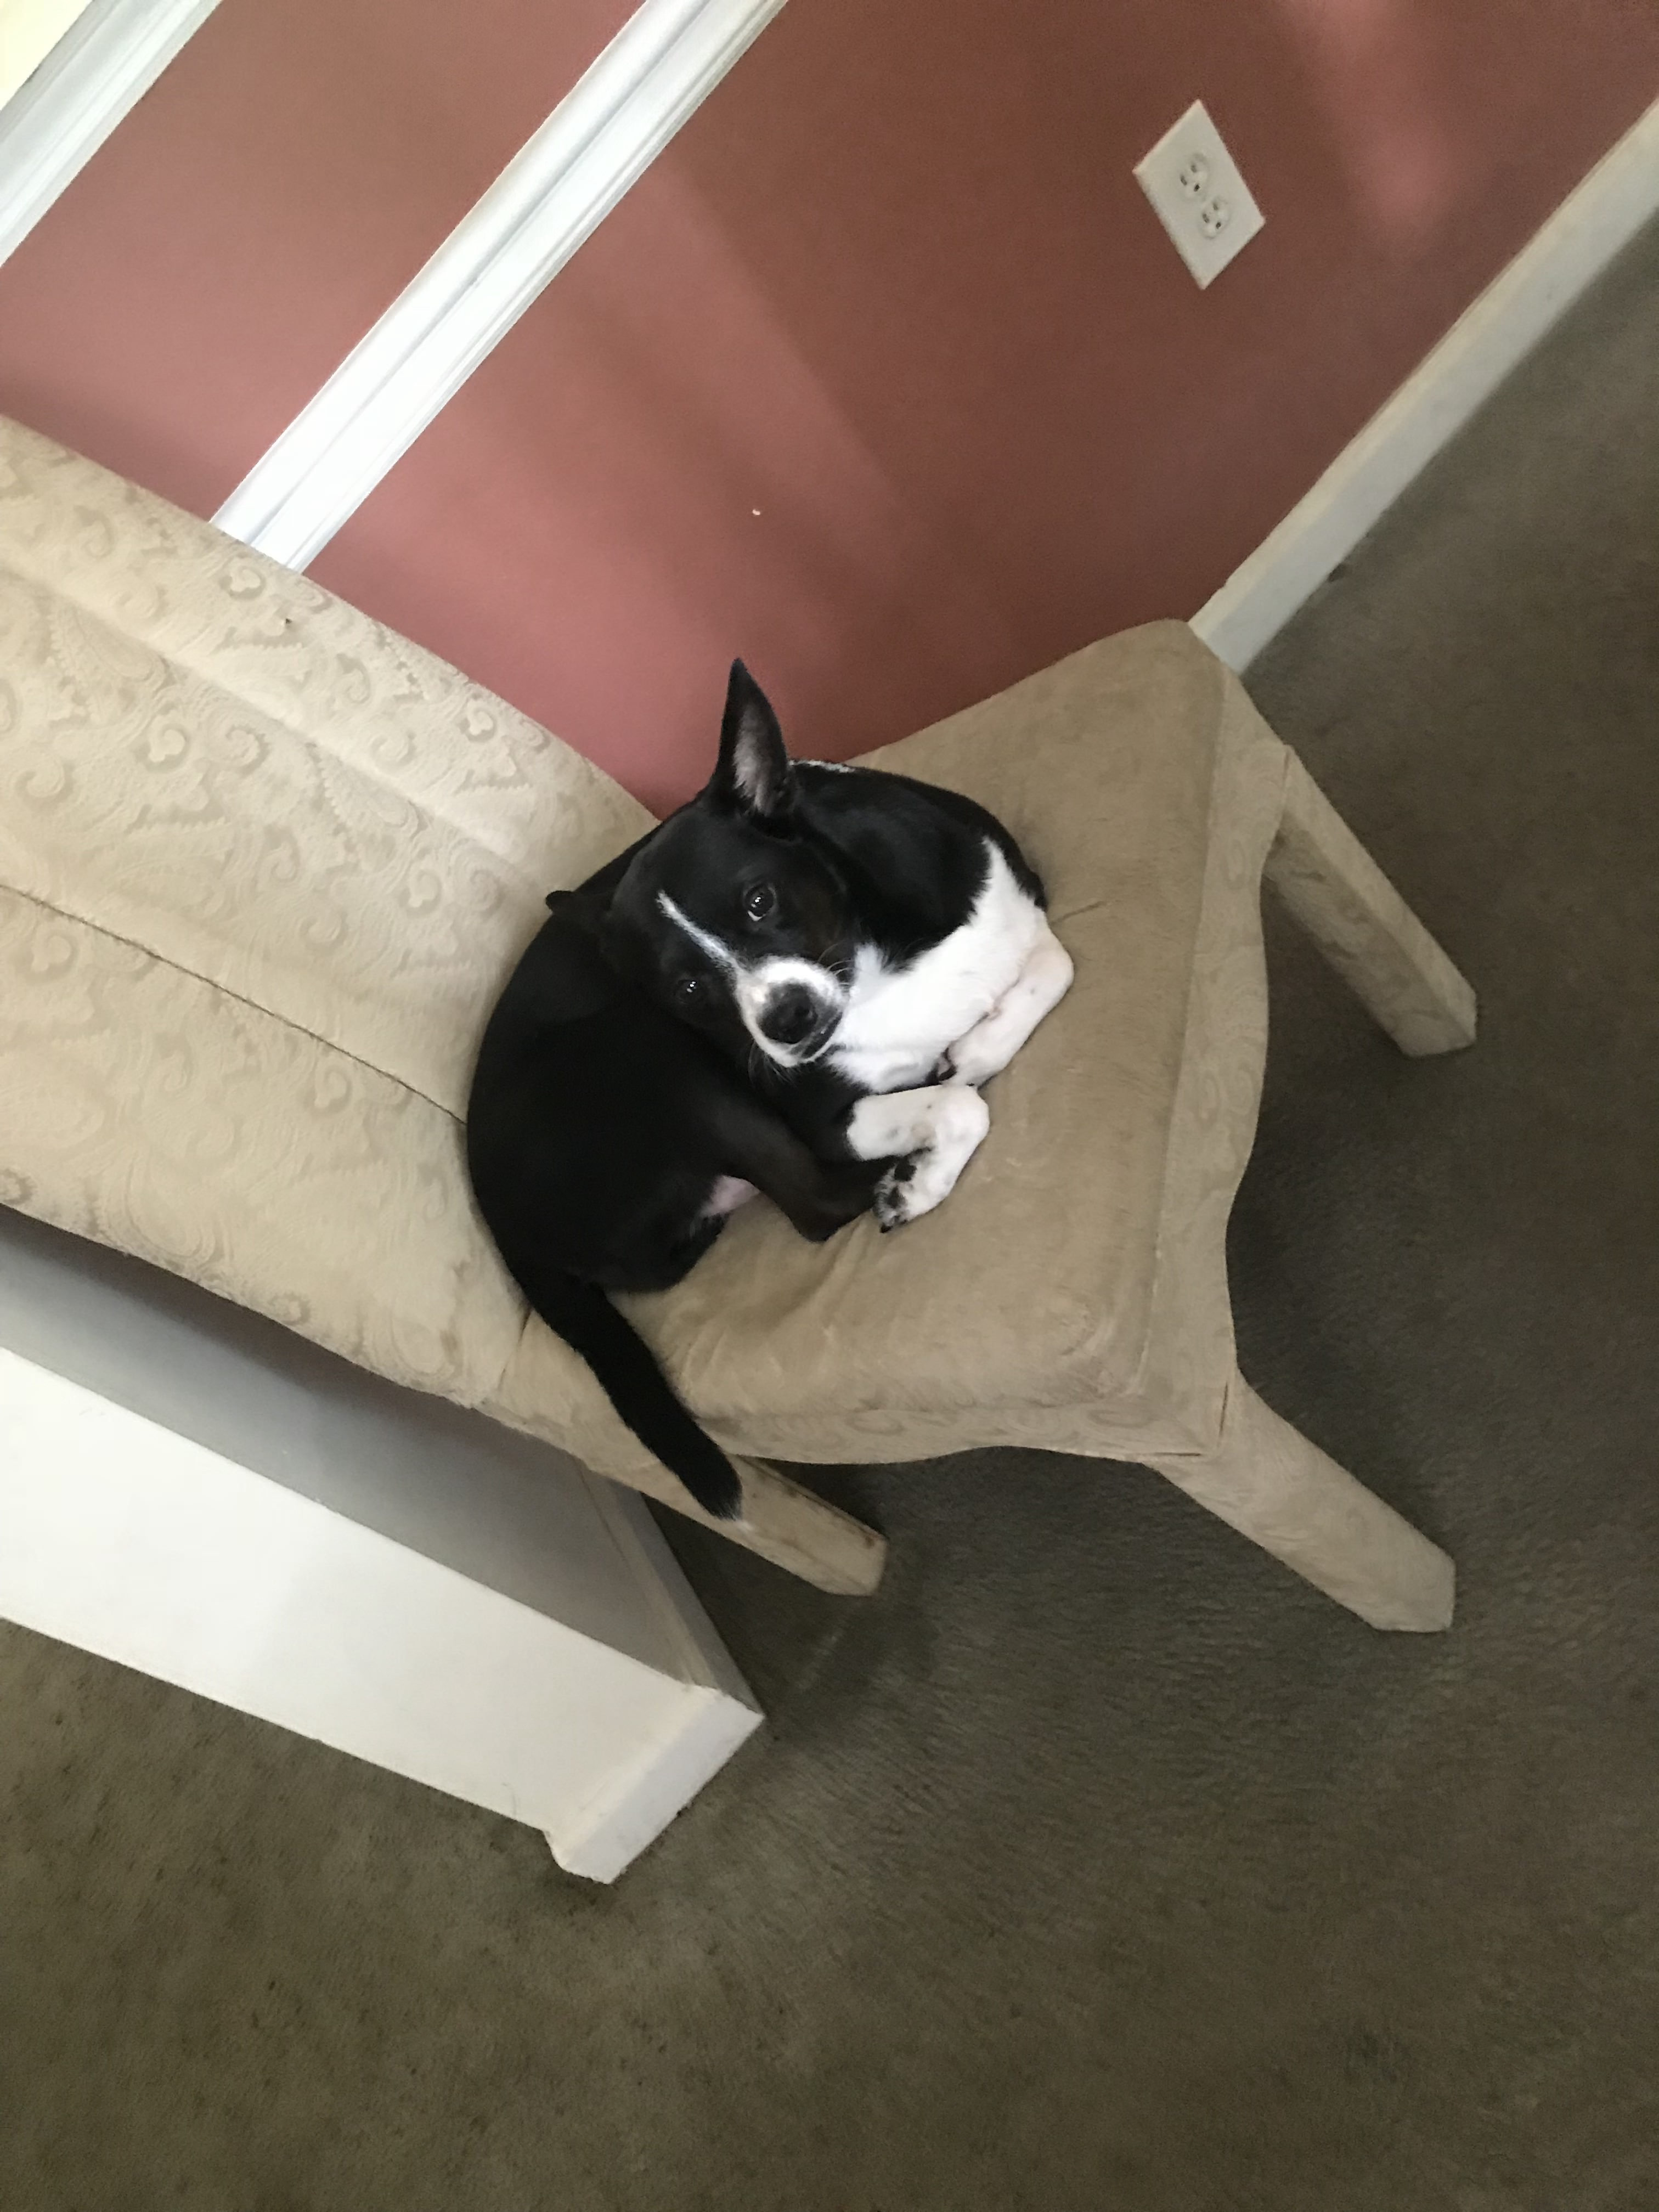Harley: (460, 665, 1093, 1569)
